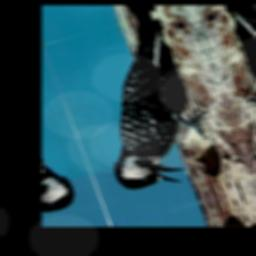Woodpecker: (58, 11, 232, 202)
